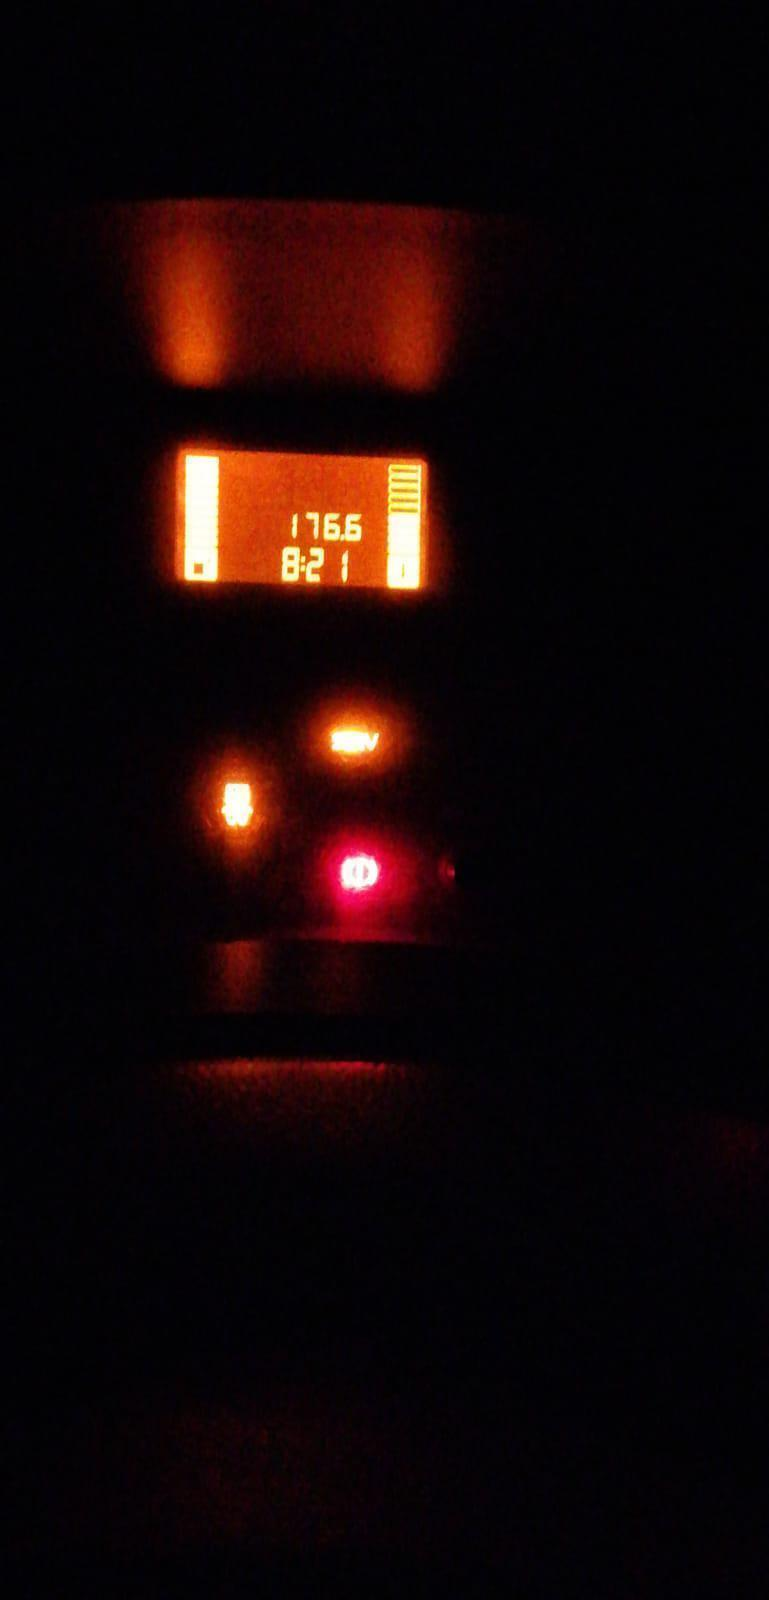,: (340, 533, 345, 541)
1: (339, 549, 349, 584), (290, 512, 298, 539)
2: (305, 547, 325, 583)
6: (344, 513, 362, 541), (322, 512, 340, 541)
7: (304, 511, 319, 540)
8: (280, 546, 300, 582)
X: (300, 555, 306, 571)
odometer: (174, 447, 430, 593)
